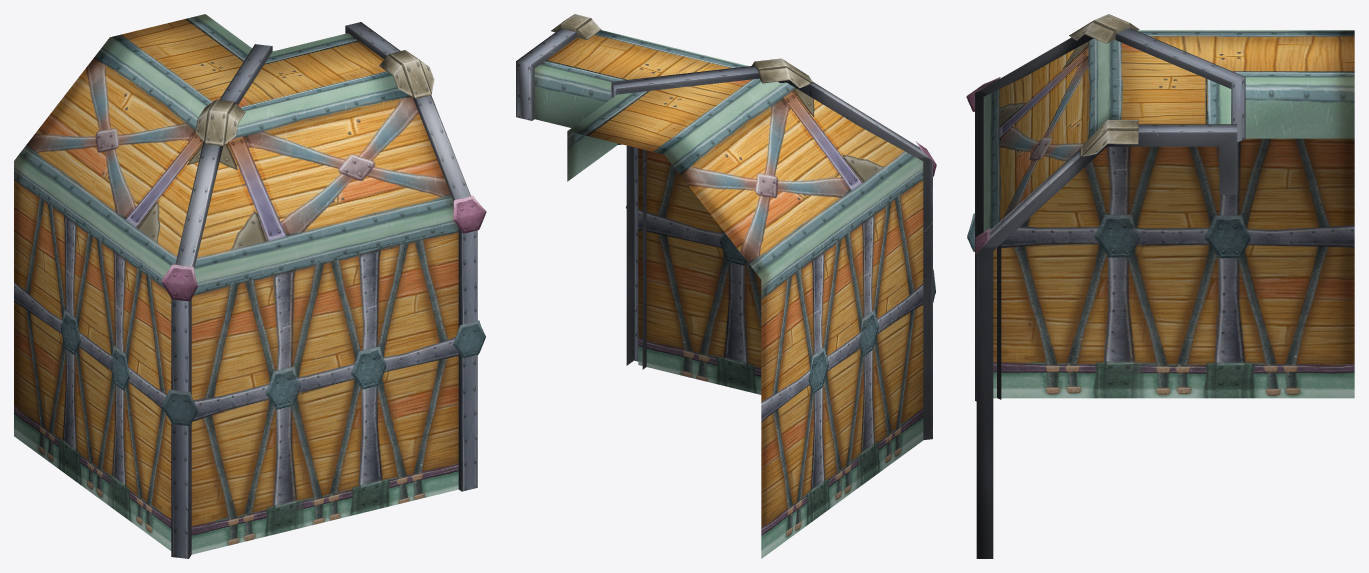
File: obj_madaprrevetment90l.glb
The picture shows the model from 3 angles, left to right: view 1: azimuth 30°, elevation 25°; view 2: azimuth 150°, elevation 25°; view 3: azimuth 270°, elevation 25°; orthographic projection. The views are drawn at different scales.
Visible parts, largest first — view 1: part_0; view 2: part_0; view 3: part_0.
Boxes of the visible parts, bbox=[...] form: part_0: bbox=[14, 14, 486, 558]; part_0: bbox=[516, 14, 936, 558]; part_0: bbox=[966, 14, 1354, 558].
Bounding box in the file's own units: 13.31 × 15.38 × 12.6.
1 material, 1 textured.
